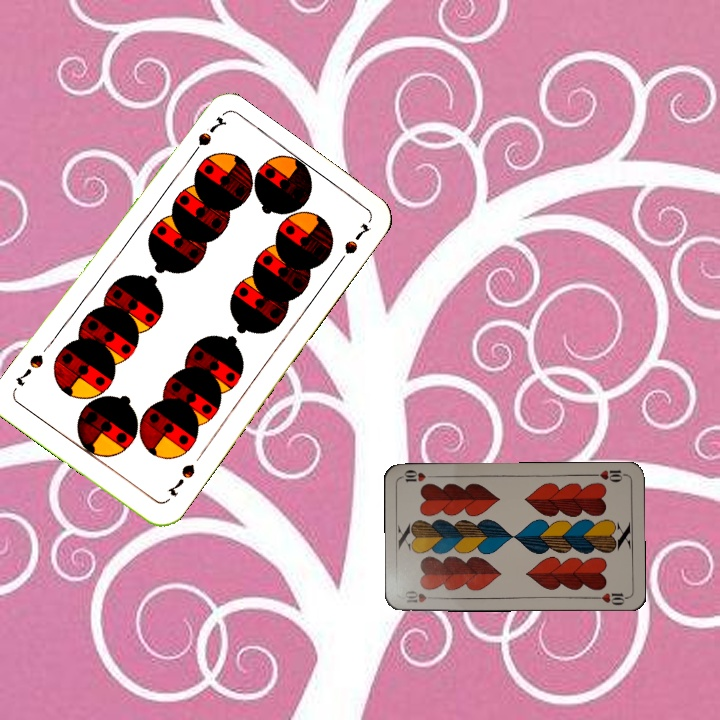H10: (588, 466, 628, 484), (401, 587, 440, 605)
S7: (184, 111, 227, 163), (163, 460, 198, 500)
